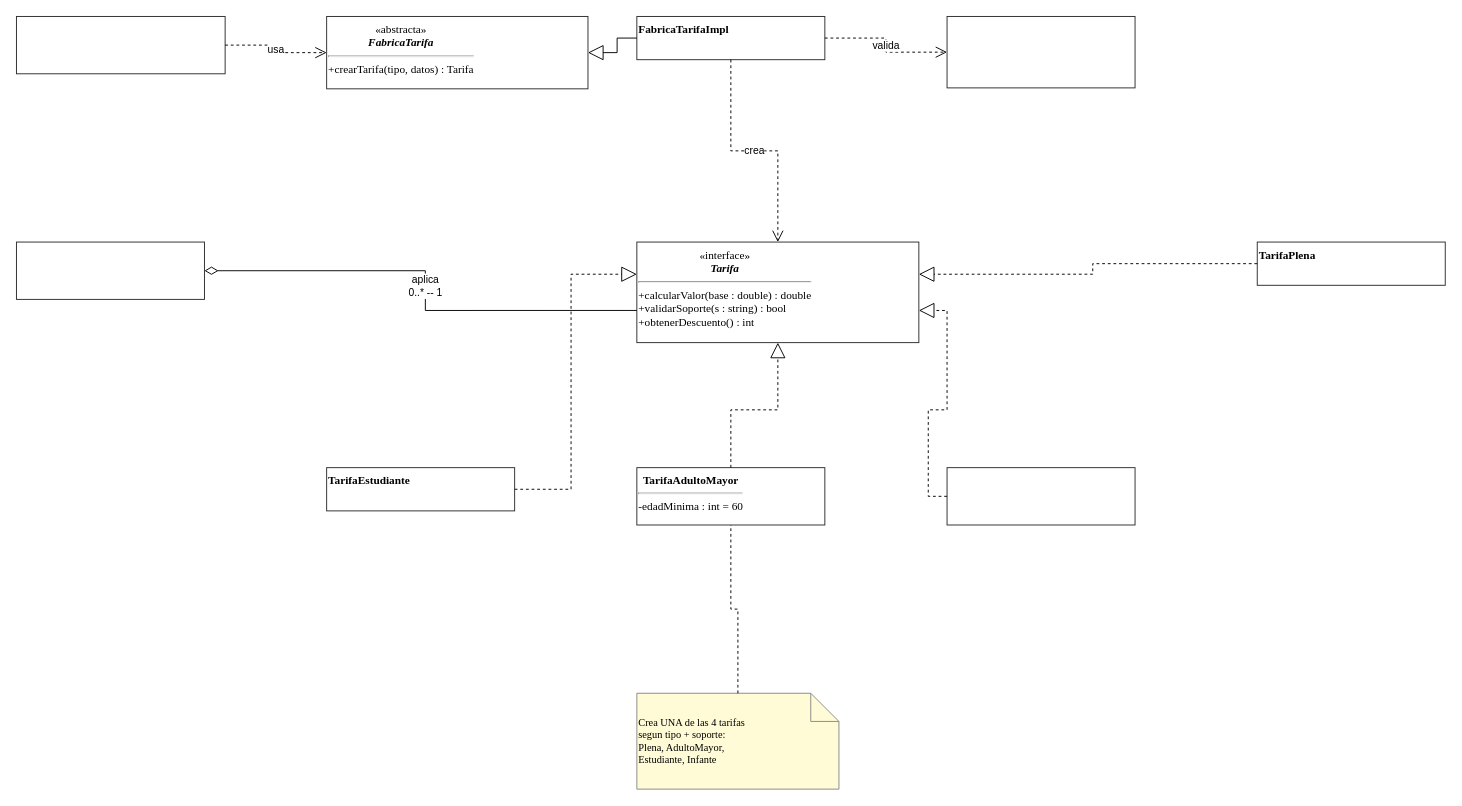
Some shapes in this 1462 by 806 pixel diagram are drawn without their labels. Each missing label, with the centre of its shape:
DatosPasajero -documento : string -soporte : string: (x=1040, y=52)
Taquillero +venderTiquete() : Tiquete: (x=120, y=45)
TarifaInfante -edadMaxima : int = 11: (x=1040, y=496)
Tiquete -valorFinal : double: (x=110, y=270)
